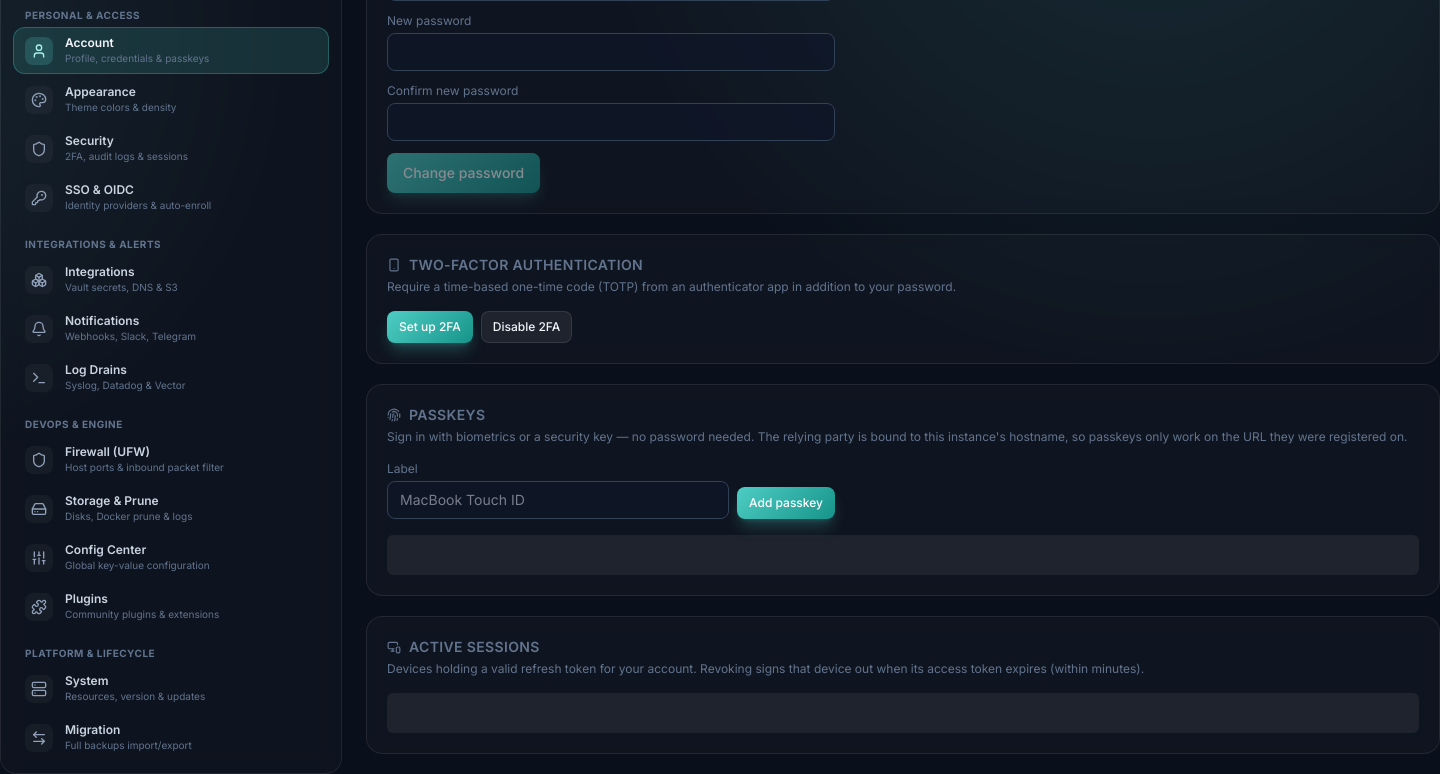
Test: Settings › shows skeleton for host resources while stats load
The width and height of the screenshot is (1440, 774).
(page scrolled)
Step 1. Click the tab "System Resources, version & updates" → [171, 688], box x1=13 y1=665 x2=329 y2=712
(page scrolled)
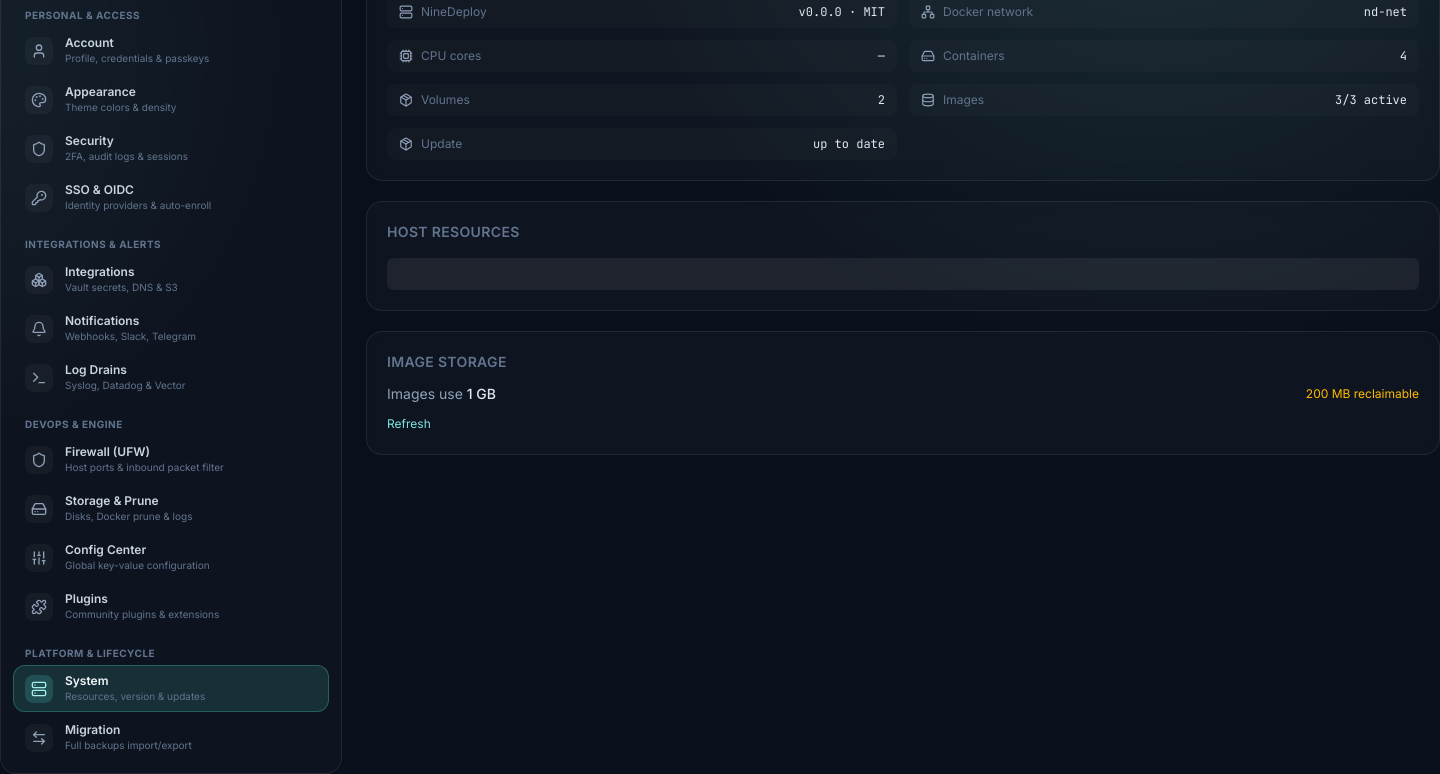
Now the heading "Host Resources" is shown, box x1=387 y1=223 x2=520 y2=240
